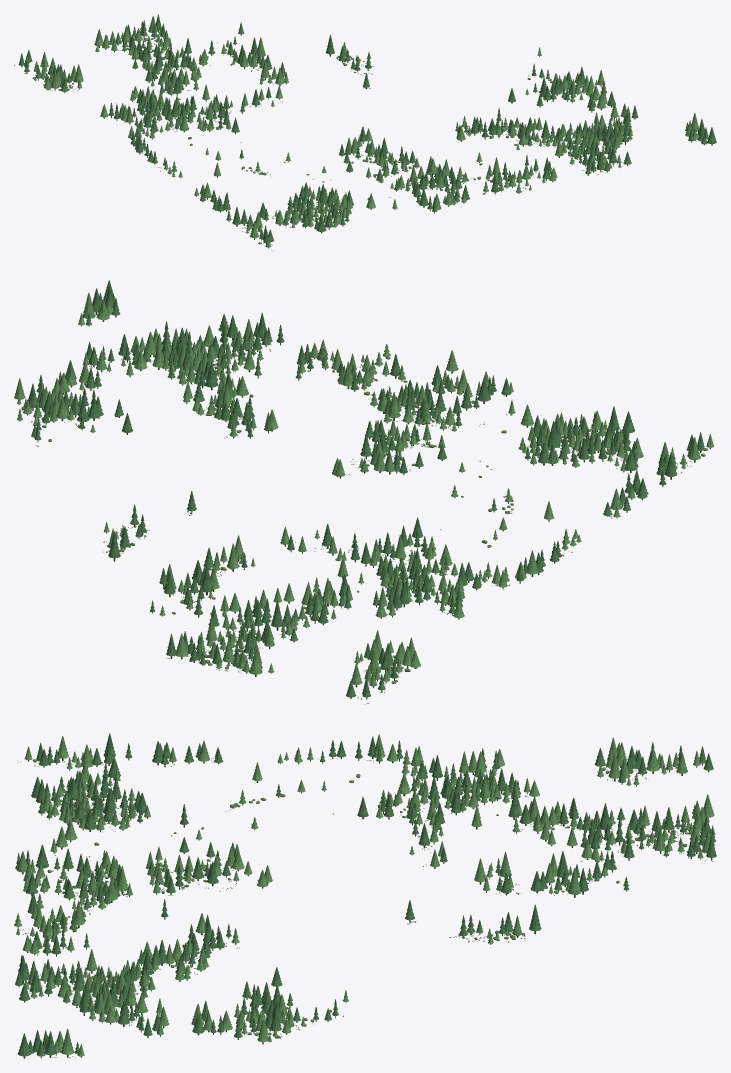
The model's file is Foliage_P1.fbx.
3 renders of one model, top to bottom at view 1: azimuth 30°, elevation 25°; view 2: azimuth 150°, elevation 25°; view 3: azimuth 270°, elevation 25°, orthographic. The views are drawn at different scales.
Bounding box in the file's own units: 61813 × 6374 × 61500.
